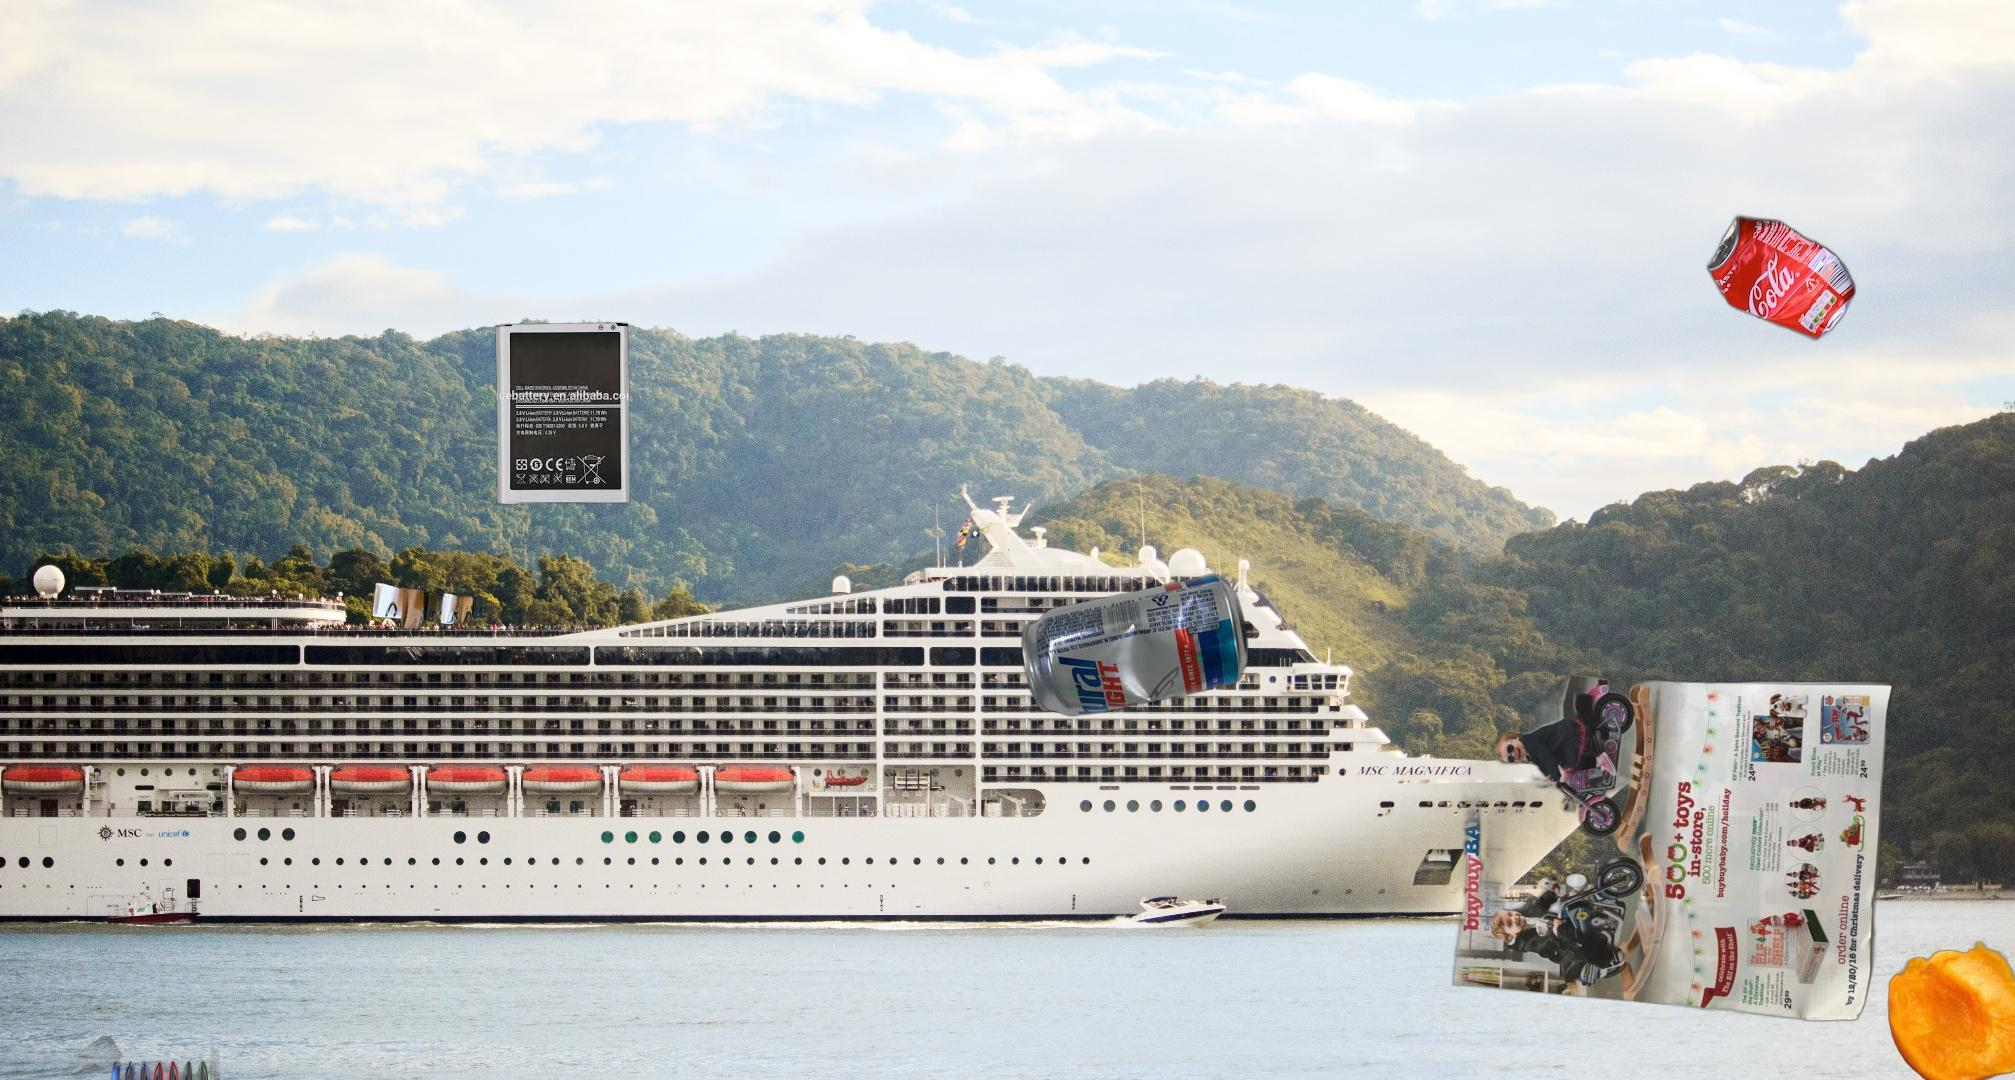battery: (488, 320, 633, 507)
biological: (1884, 935, 2015, 1080)
metal-cans: (1017, 572, 1253, 720), (1702, 211, 1859, 347)
paper: (1447, 668, 1900, 1023)
paper-bag: (369, 581, 490, 633)
penholder: (71, 1036, 220, 1080)
